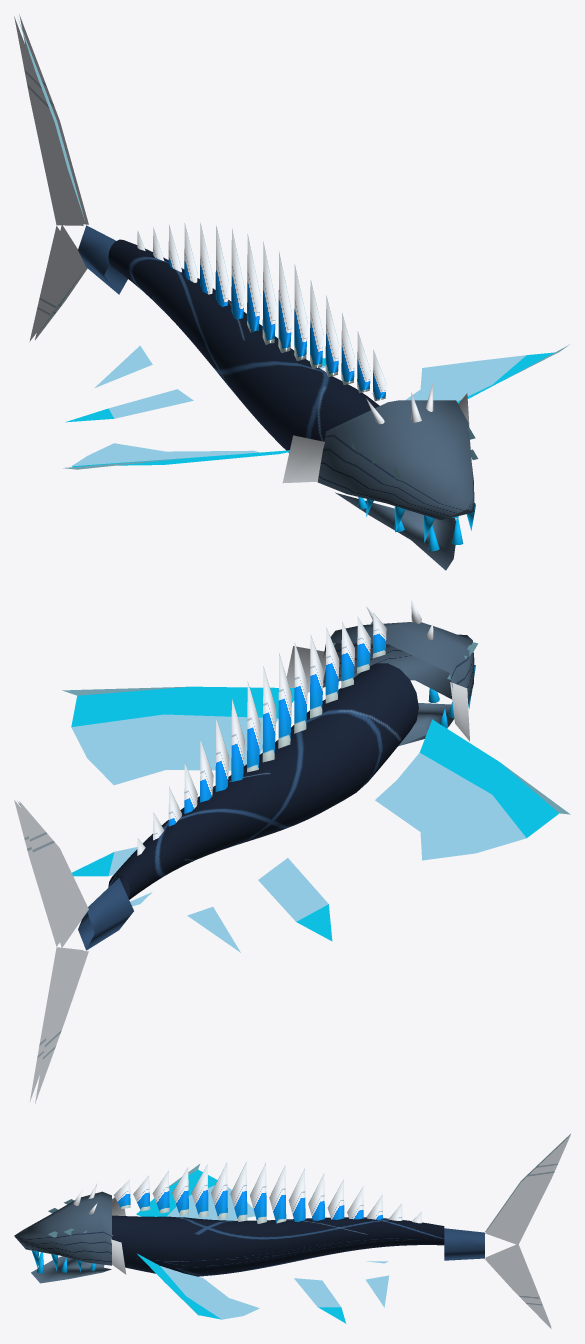
File: boss.obj
3 renders of one model, top to bottom at view 1: azimuth 30°, elevation 25°; view 2: azimuth 150°, elevation 25°; view 3: azimuth 270°, elevation 25°, orthographic. The views are drawn at different scales.
Parts seen in each view (by area): view 1: Boss_Head, Boss_Body, Boss_Spine, Boss_Tail, Boss_Fins; view 2: Boss_Fins, Boss_Body, Boss_Spine, Boss_Tail, Boss_Head; view 3: Boss_Body, Boss_Spine, Boss_Head, Boss_Tail, Boss_Fins.
Boxes of the visible parts, x1,y1,x2,y2 form: Boss_Head: [282, 382, 478, 570]; Boss_Body: [108, 239, 379, 452]; Boss_Spine: [137, 223, 386, 401]; Boss_Tail: [14, 14, 127, 341]; Boss_Fins: [63, 344, 569, 469]; Boss_Fins: [62, 686, 570, 952]; Boss_Body: [108, 663, 418, 899]; Boss_Spine: [137, 613, 386, 855]; Boss_Tail: [14, 800, 133, 1103]; Boss_Head: [286, 600, 478, 746]; Boss_Body: [112, 1215, 444, 1276]; Boss_Spine: [114, 1162, 421, 1223]; Boss_Head: [14, 1183, 126, 1283]; Boss_Tail: [444, 1133, 570, 1328]; Boss_Fins: [136, 1164, 389, 1323].
Bounding box in the file's own units: 15.2 × 9 × 23.3.
5 materials, 5 textured.
